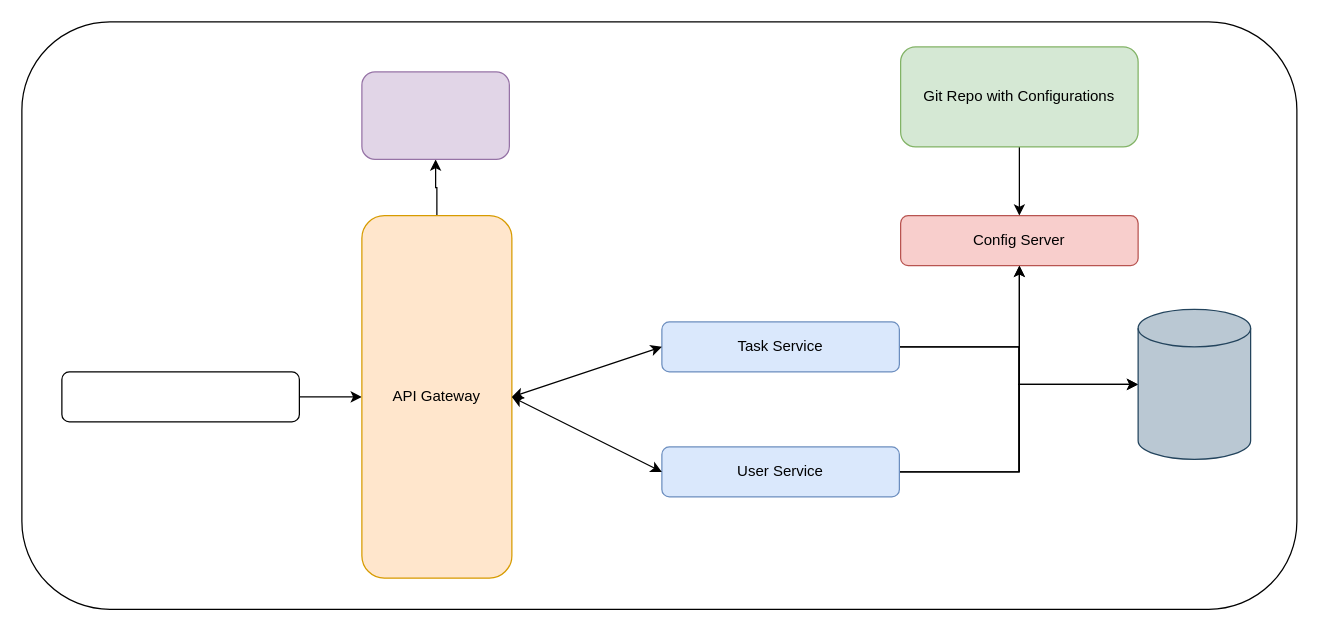
The diagram is 1319 pixels wide and 631 high, and some of its shapes have lost their labels. Each missing label, with the centre of its shape:
Postgres DB: pixel 1194 383
server-registry(naming-service): pixel 435 115
Web Client: pixel 180 396
